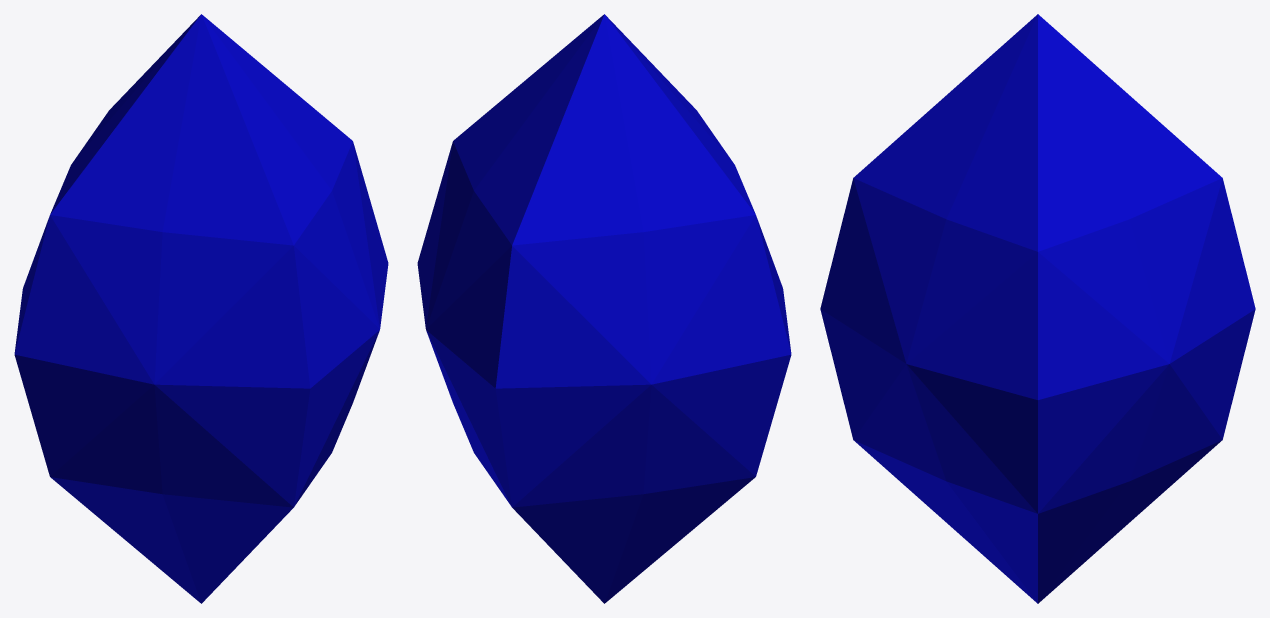
The model's file is CrystalBlue.obj.
3 renders of one model, left to right at view 1: azimuth 30°, elevation 25°; view 2: azimuth 150°, elevation 25°; view 3: azimuth 270°, elevation 25°, orthographic.
Parts seen in each view (by area): view 1: CrystalBlue; view 2: CrystalBlue; view 3: CrystalBlue.
Part boxes in pixels (x1,y1,x2,y2): CrystalBlue: [14, 14, 388, 603]; CrystalBlue: [417, 14, 791, 603]; CrystalBlue: [820, 14, 1255, 603].
Size of the model in its own units: 2.99 by 4.5 by 3.01.
